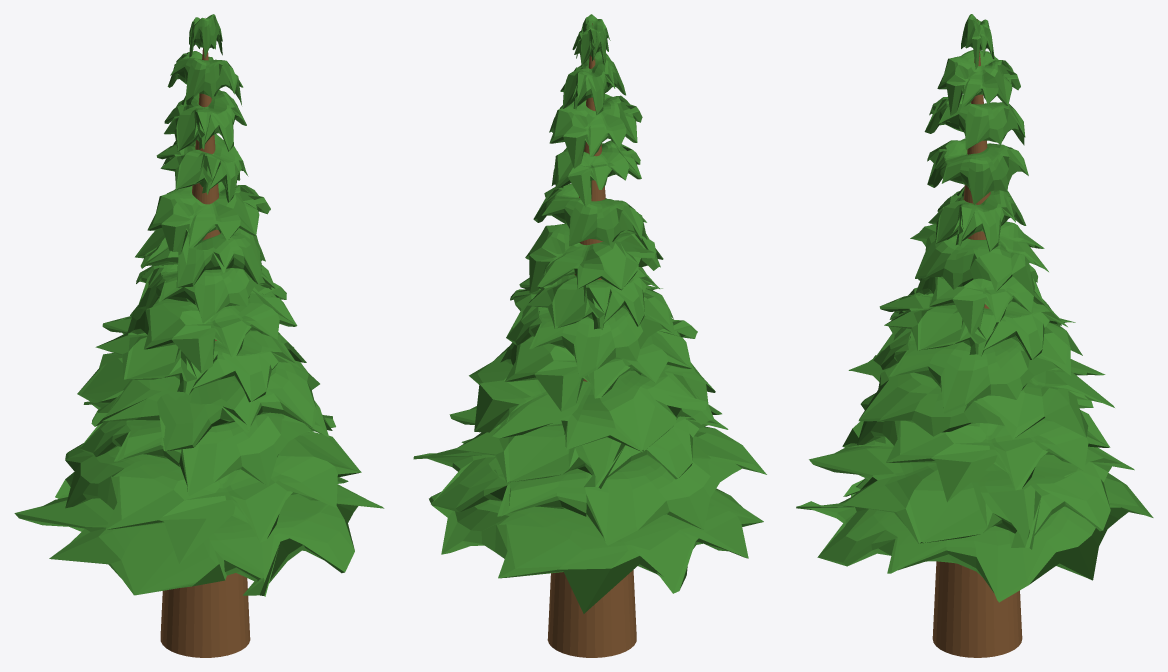
File: tree.fbx
3 renders of one model, left to right at view 1: azimuth 30°, elevation 25°; view 2: azimuth 150°, elevation 25°; view 3: azimuth 270°, elevation 25°, orthographic.
Visible parts, largest first — view 1: Sphere, Sphere.001, Sphere.002, Sphere.003, Cylinder, Sphere.006, Sphere.004, Sphere.010, Sphere.005, Sphere.007, Sphere.009, Sphere.011 (+2 smaller); view 2: Sphere, Sphere.001, Sphere.002, Sphere.003, Sphere.004, Sphere.006, Cylinder, Sphere.005, Sphere.007, Sphere.011, Sphere.010, Sphere.009 (+2 smaller); view 3: Sphere.001, Sphere, Sphere.003, Sphere.002, Sphere.004, Cylinder, Sphere.006, Sphere.005, Sphere.009, Sphere.007, Sphere.010, Sphere.008 (+2 smaller).
Part boxes in pixels (left/top/right/bottom): Sphere: left=14, top=472, right=384, bottom=596; Sphere.001: left=65, top=415, right=361, bottom=563; Sphere.002: left=77, top=347, right=319, bottom=451; Sphere.003: left=79, top=400, right=332, bottom=495; Cylinder: left=160, top=18, right=250, bottom=657; Sphere.006: left=127, top=282, right=297, bottom=373; Sphere.004: left=95, top=316, right=306, bottom=402; Sphere.010: left=147, top=182, right=270, bottom=255; Sphere.005: left=135, top=228, right=265, bottom=287; Sphere.007: left=136, top=264, right=275, bottom=323; Sphere.009: left=156, top=134, right=248, bottom=202; Sphere.011: left=164, top=90, right=246, bottom=151; Sphere: left=429, top=488, right=763, bottom=613; Sphere.001: left=413, top=426, right=766, bottom=545; Sphere.002: left=469, top=346, right=715, bottom=452; Sphere.003: left=449, top=404, right=728, bottom=488; Sphere.004: left=500, top=318, right=697, bottom=411; Sphere.006: left=506, top=285, right=675, bottom=378; Cylinder: left=547, top=23, right=636, bottom=657; Sphere.005: left=525, top=224, right=663, bottom=293; Sphere.007: left=519, top=267, right=659, bottom=329; Sphere.011: left=549, top=94, right=642, bottom=168; Sphere.010: left=533, top=183, right=647, bottom=246; Sphere.009: left=551, top=140, right=641, bottom=206; Sphere.001: left=809, top=421, right=1134, bottom=549; Sphere: left=796, top=473, right=1153, bottom=602; Sphere.003: left=857, top=393, right=1110, bottom=502; Sphere.002: left=848, top=355, right=1114, bottom=438; Sphere.004: left=873, top=311, right=1082, bottom=413; Cylinder: left=932, top=19, right=1022, bottom=657; Sphere.006: left=879, top=287, right=1067, bottom=359; Sphere.005: left=910, top=221, right=1048, bottom=295; Sphere.009: left=927, top=138, right=1028, bottom=204; Sphere.007: left=915, top=265, right=1044, bottom=334; Sphere.010: left=928, top=186, right=1026, bottom=251; Sphere.008: left=937, top=50, right=1020, bottom=115.
Size of the model in its own units: 705 by 1354 by 705.
